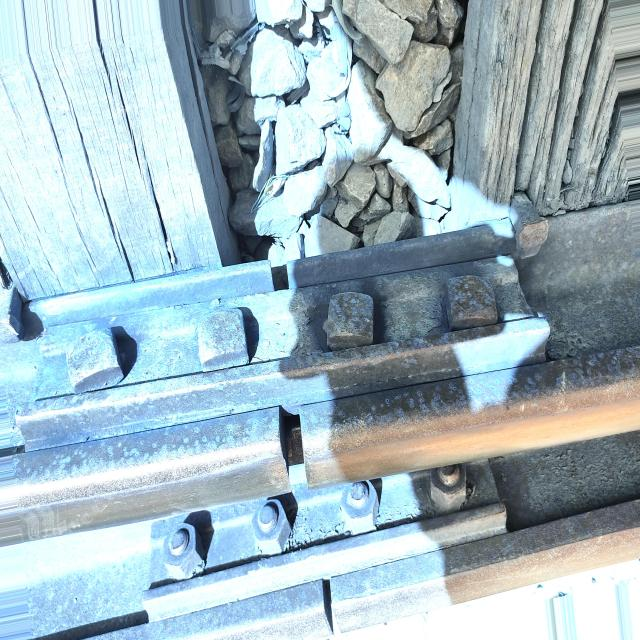crack: (266, 402, 316, 491), (306, 566, 347, 639), (247, 256, 316, 294)
